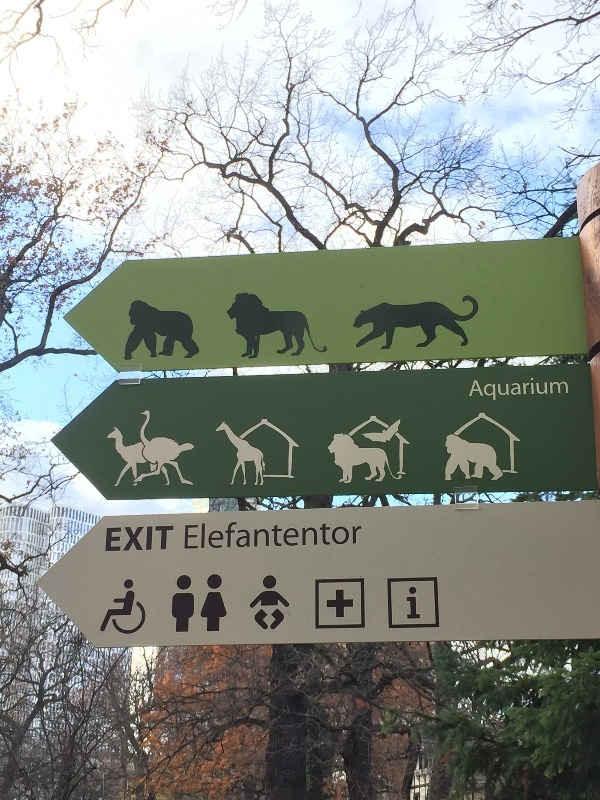text: (193, 521, 208, 552), (209, 521, 224, 552), (225, 521, 240, 552), (241, 521, 256, 552), (257, 521, 272, 552), (273, 521, 288, 552), (289, 521, 304, 552), (305, 521, 320, 552), (321, 521, 336, 552), (337, 521, 352, 552), (113, 525, 128, 554), (129, 525, 144, 554), (145, 525, 160, 554), (481, 376, 496, 404), (497, 376, 512, 404), (513, 376, 528, 404), (529, 376, 544, 404), (545, 376, 560, 404), (161, 525, 174, 554), (406, 587, 416, 621), (353, 521, 362, 552), (561, 376, 569, 404), (473, 376, 480, 404), (186, 521, 192, 552), (107, 525, 112, 554), (417, 587, 421, 621)
